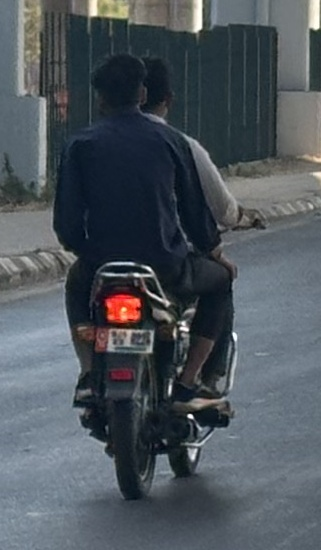BikeWithRider: (43, 43, 272, 508)
NoHelmet: (83, 46, 153, 127), (129, 49, 182, 124)
